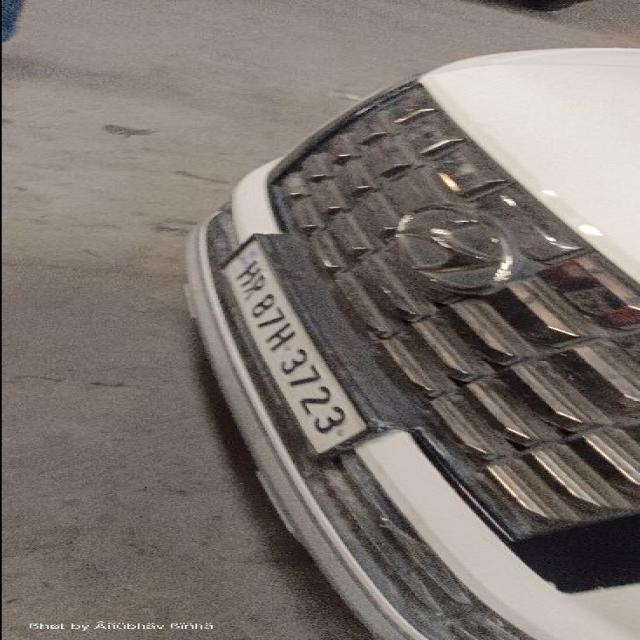license_plate: (182, 46, 636, 638)
